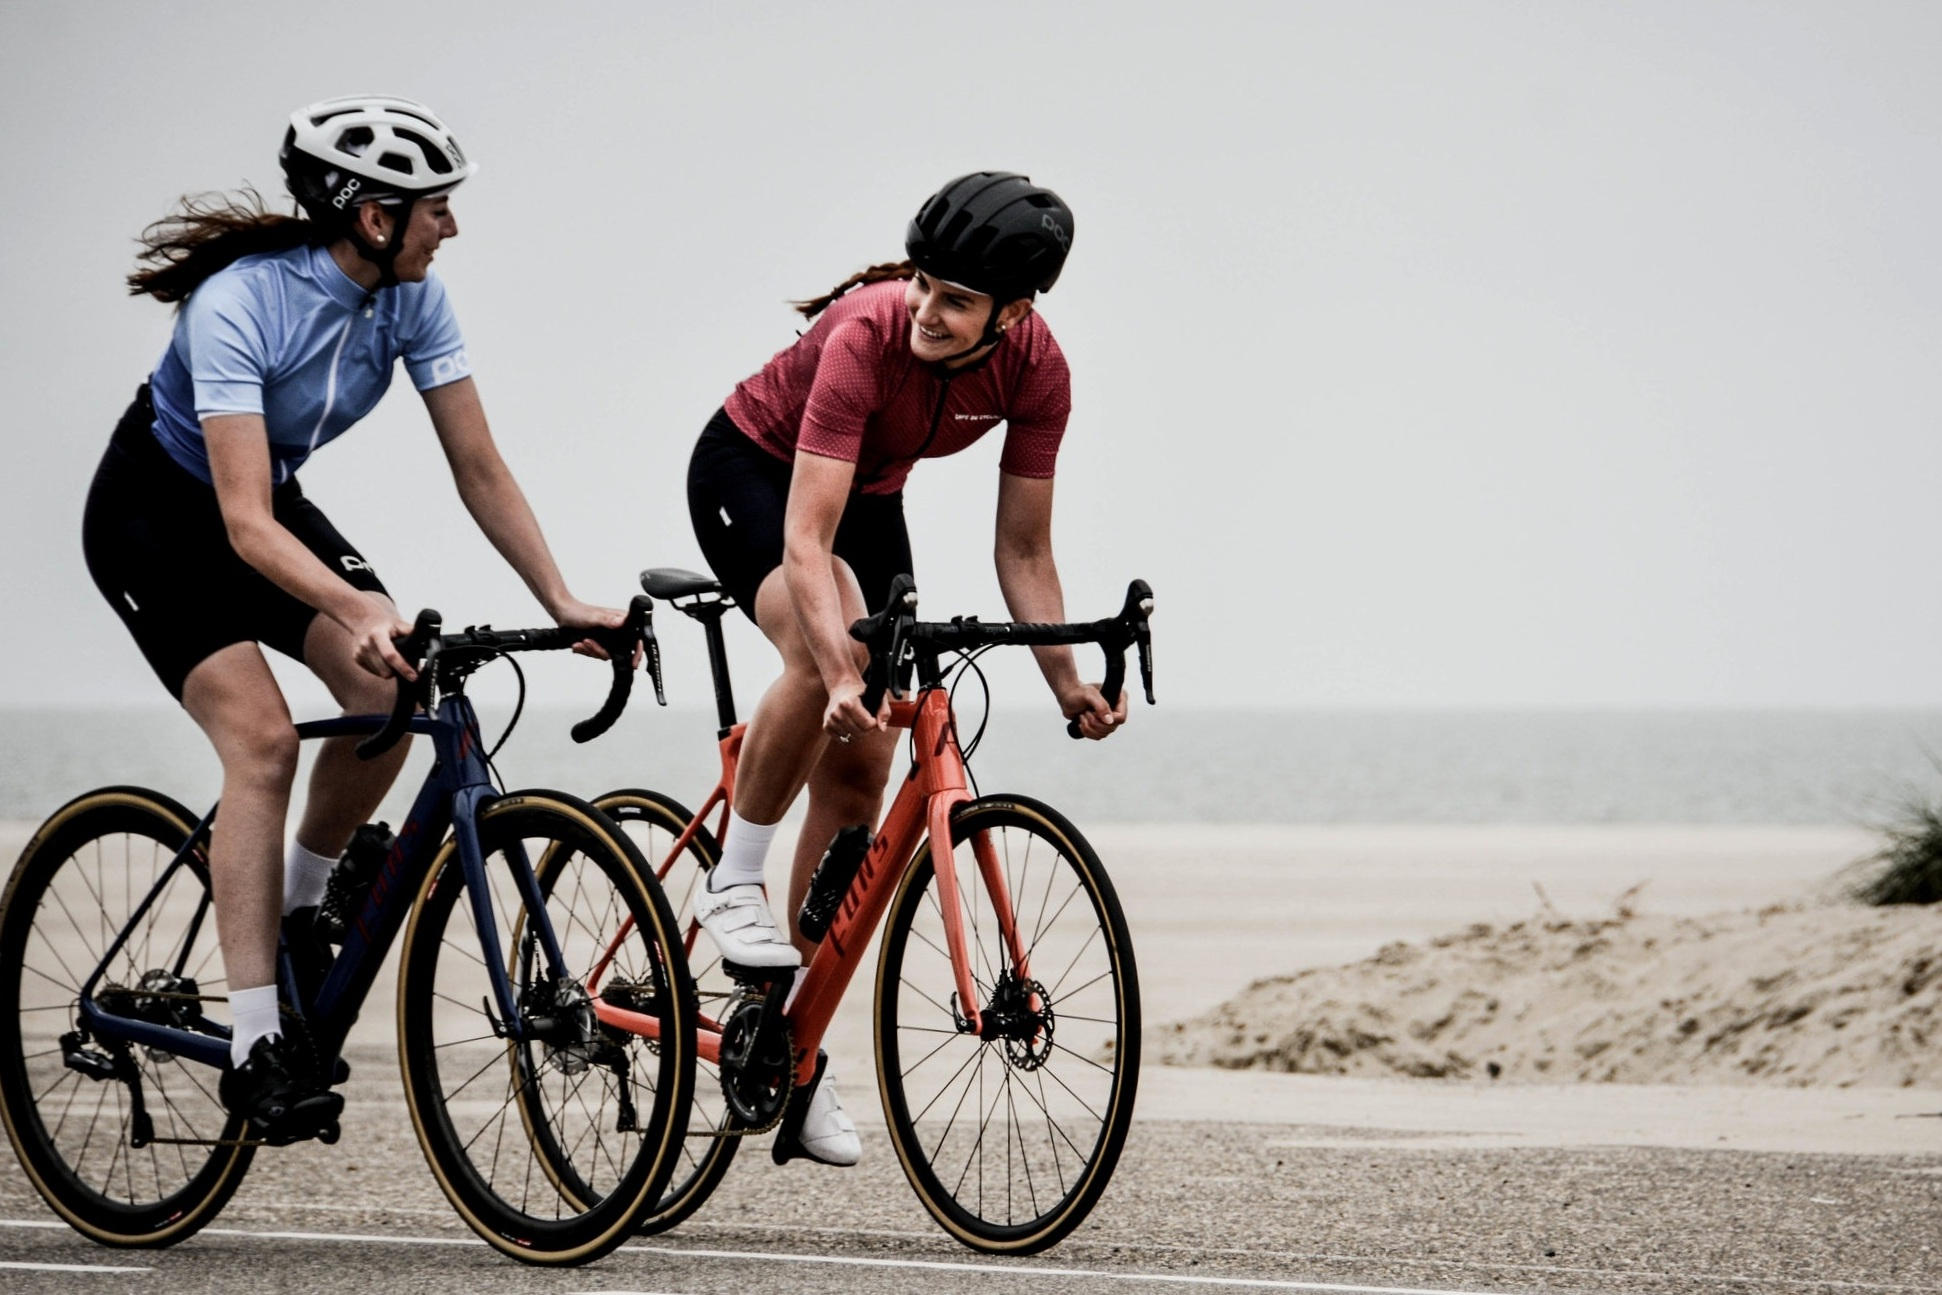bicycle: (8, 614, 700, 1242), (558, 571, 1163, 1273)
person: (80, 105, 547, 1094), (693, 149, 1130, 1144)
